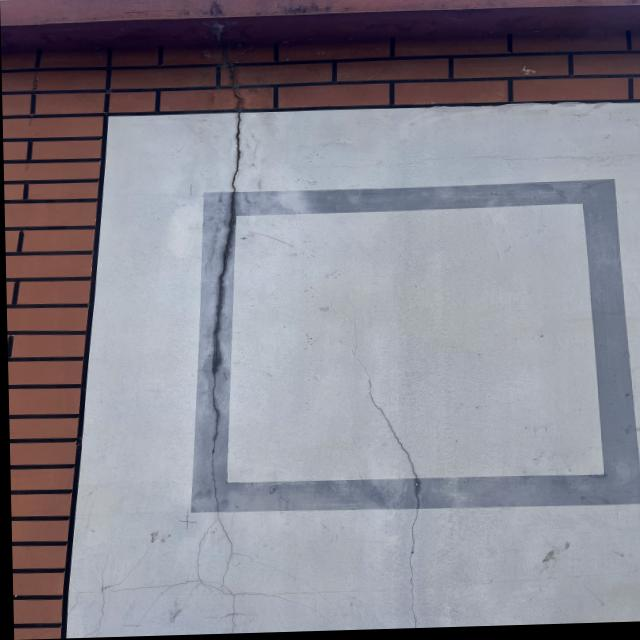crack: (196, 38, 254, 616), (355, 378, 434, 566)
